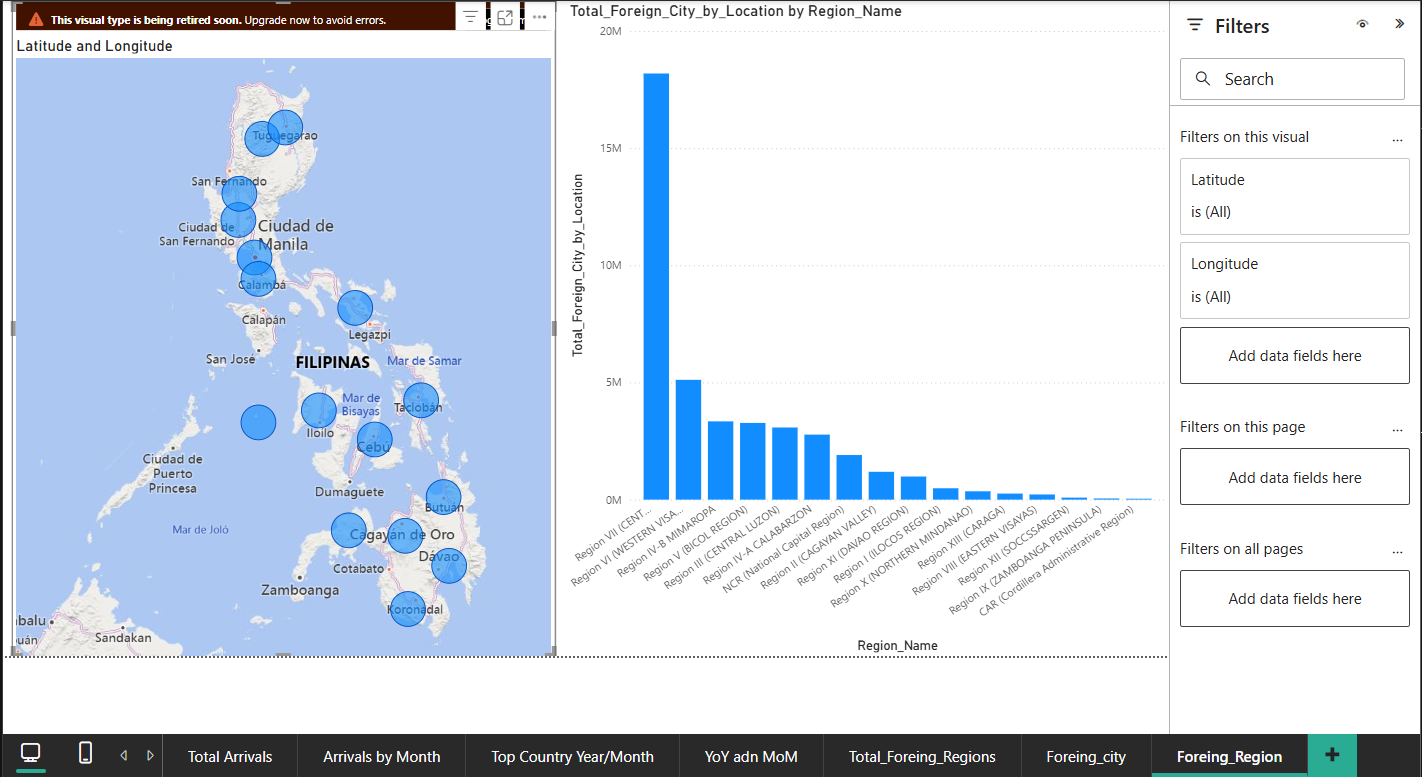

The page's visual inventory and layout, read from the dashboard file:
{"tool":"powerbi","page":{"name":"Page 1","canvas":[1280,720],"ordinal":6},"visuals":[{"type":"map","fields":{"X":["Sheet1.Longitude"],"Y":["Sheet1.Latitude"]},"box":[9.6,0,596.9,720.4],"z":0},{"type":"clusteredColumnChart","fields":{"Category":["Sheet1.Region_Name"],"Y":["Measures (2).Total_Foreign_City_by_Location"]},"box":[617.5,0,662.8,720.4],"z":1}]}

Visuals, with their boxes on the page's 1280x720 design canvas (x1, y1, x2, y2). These are canvas units, not pixel positions in the 1422x777 screenshot, which may show the page scaled, cropped or inside an application window:
map - Sheet1.Longitude x Sheet1.Latitude: {"x1": 10, "y1": 0, "x2": 606, "y2": 720}
clusteredColumnChart - Sheet1.Region_Name x Measures (2).Total_Foreign_City_by_Location: {"x1": 618, "y1": 0, "x2": 1280, "y2": 720}
